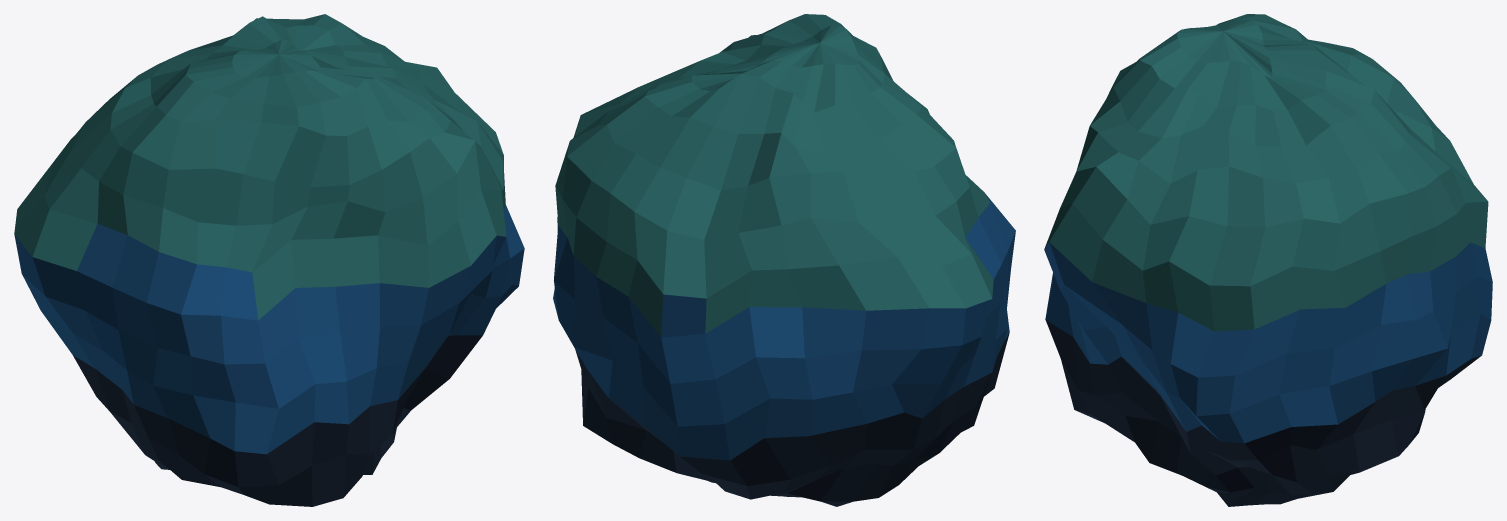
File: rock001.FBX
3 renders of one model, left to right at view 1: azimuth 30°, elevation 25°; view 2: azimuth 150°, elevation 25°; view 3: azimuth 270°, elevation 25°, orthographic.
Parts seen in each view (by area): view 1: rock_001; view 2: rock_001; view 3: rock_001.
Part boxes in pixels (x1,y1,x2,y2): rock_001: (14,14,524,506); rock_001: (553,14,1015,506); rock_001: (1044,14,1492,506).
Bounding box in the file's own units: 11.02 × 10.39 × 9.72.
